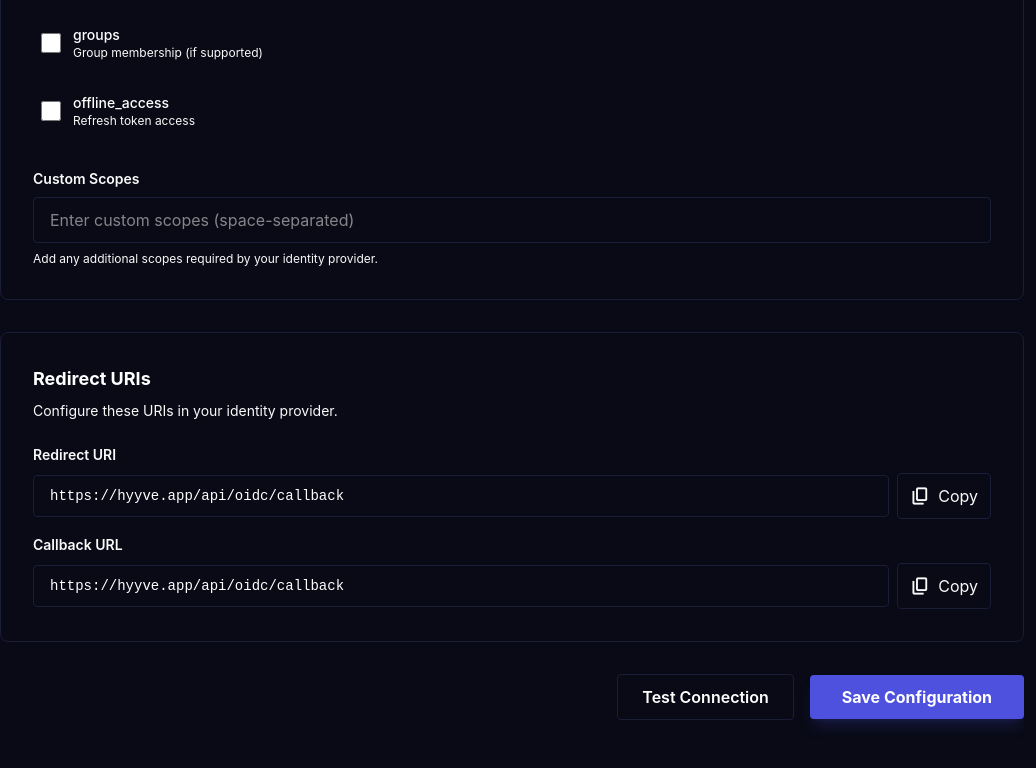
it: OidcConfigForm › Redirect URI Display (AC5) › shows copied feedback after copying
(page scrolled)
Click the button with test id "copy-redirect-uri": (944, 496) [897,473,991,519]
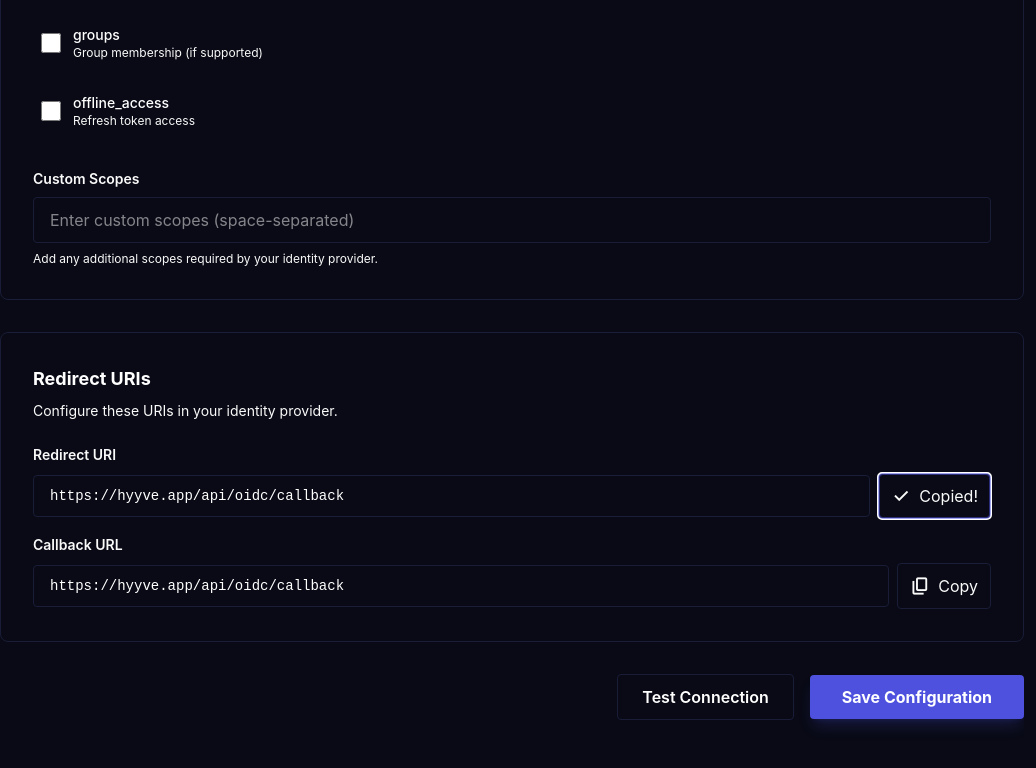
Check: the button "Copied!" is shown, box [878,473,991,519]
